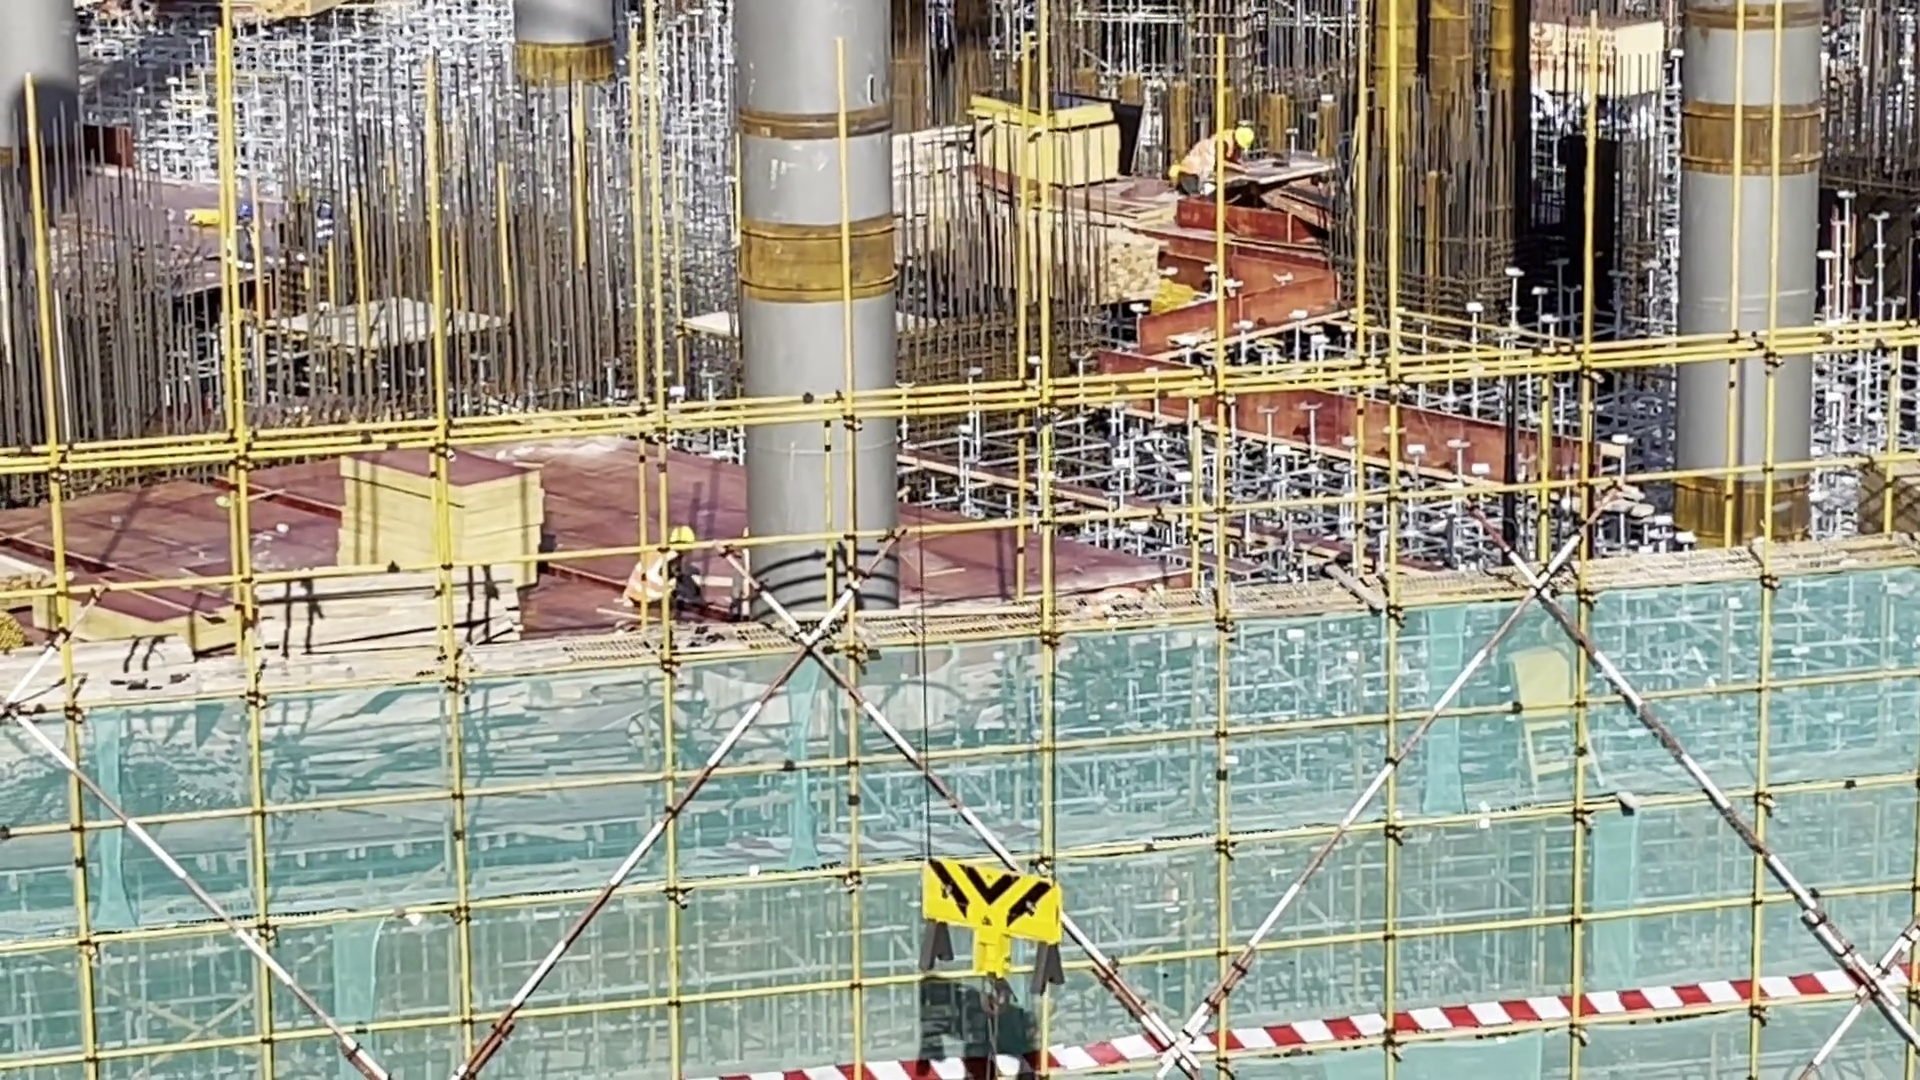board: (336, 442, 547, 583)
hook: (912, 853, 1070, 996)
person: (617, 524, 704, 614), (1178, 120, 1256, 196)
vest: (627, 546, 674, 605)
wood: (1843, 445, 1920, 546)
